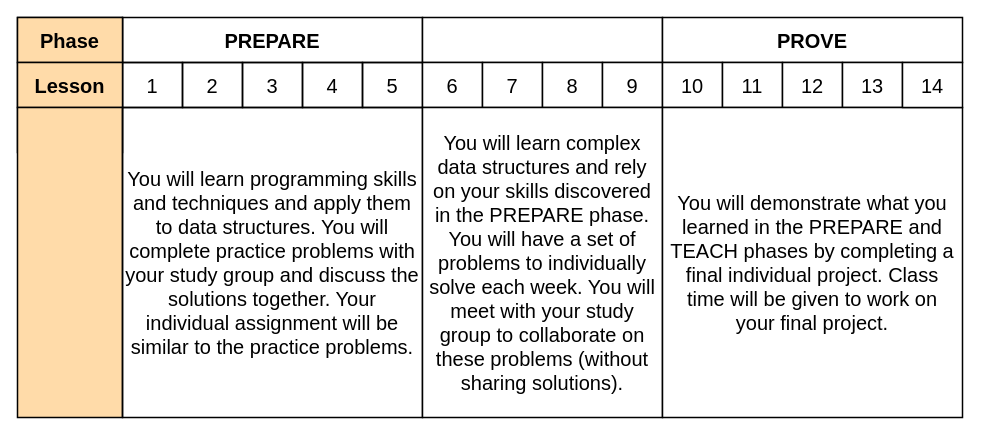
This 981x436 diagram has some shape labels left out. The shapes that lost their labels are listed below. From the top down, each one's centre as x and y in pixels, then its label:
(542,39): TEACH
(69,262): Purpose
